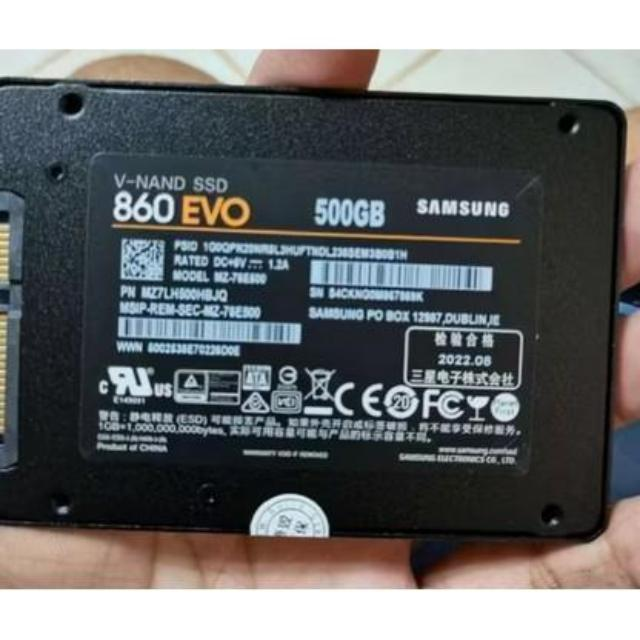DISK: (0, 72, 617, 542)
